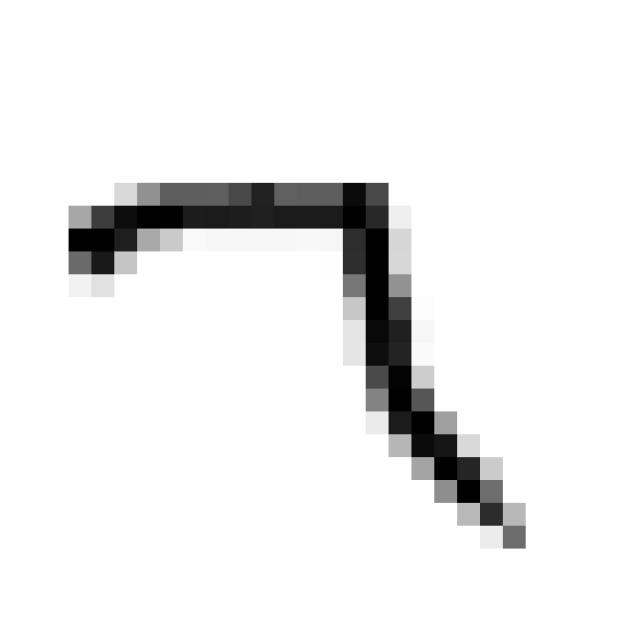6 -six-: (48, 158, 539, 569)
